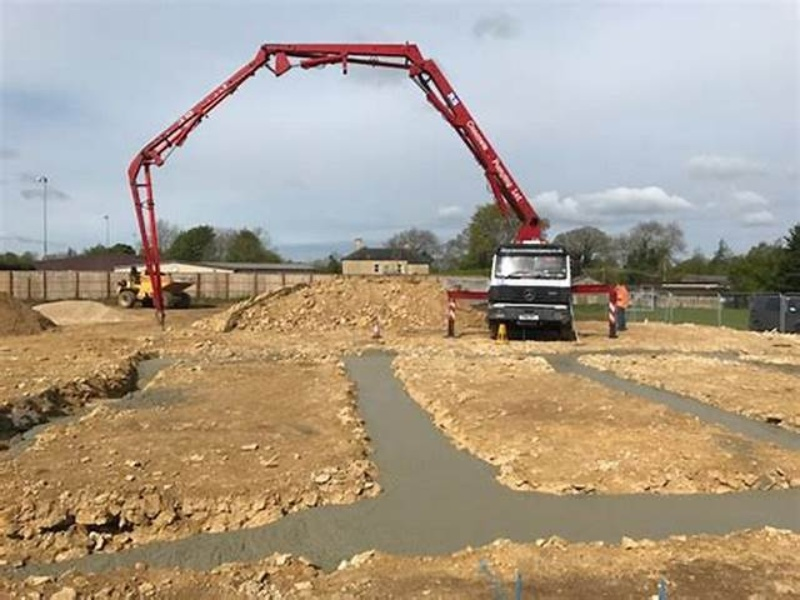pump truck: (122, 37, 581, 348)
